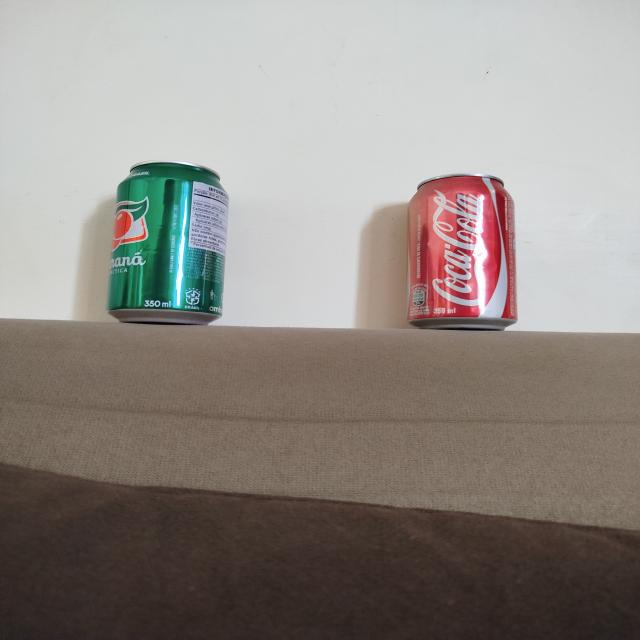Coca Cola: (407, 174, 516, 331)
Guarana: (108, 161, 228, 324)
